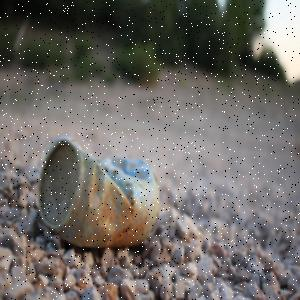Can: (39, 137, 161, 249)
